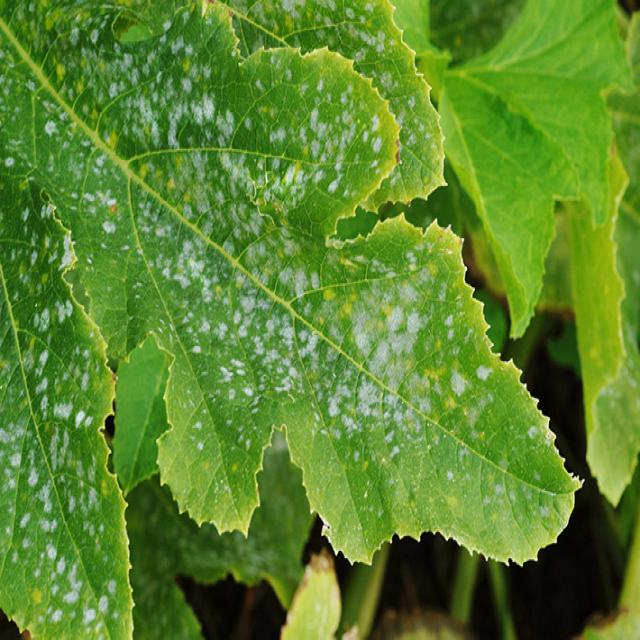Powdery Mildew: (1, 2, 589, 634)
